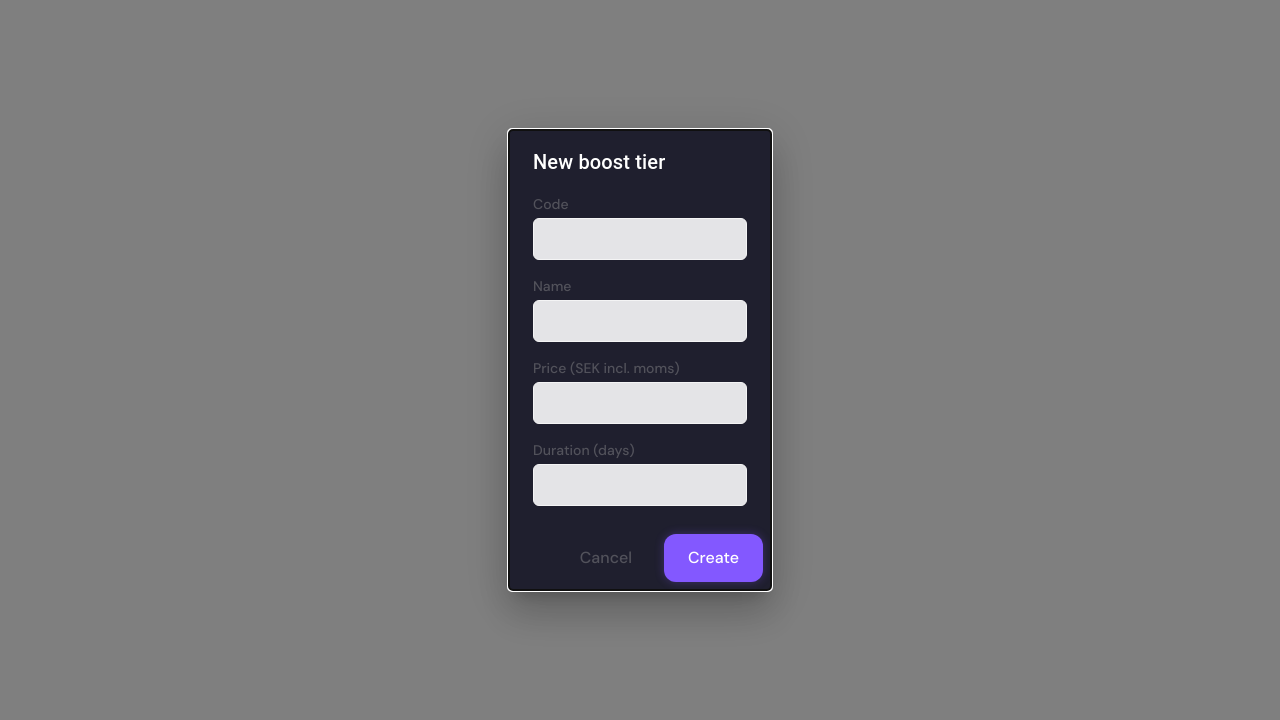
BoostTierFormDialog › shows the backend message when saving fails
The width and height of the screenshot is (1280, 720).
Type "boost" into the field labelled "Code" at (640, 239), box x1=533 y1=218 x2=747 y2=260
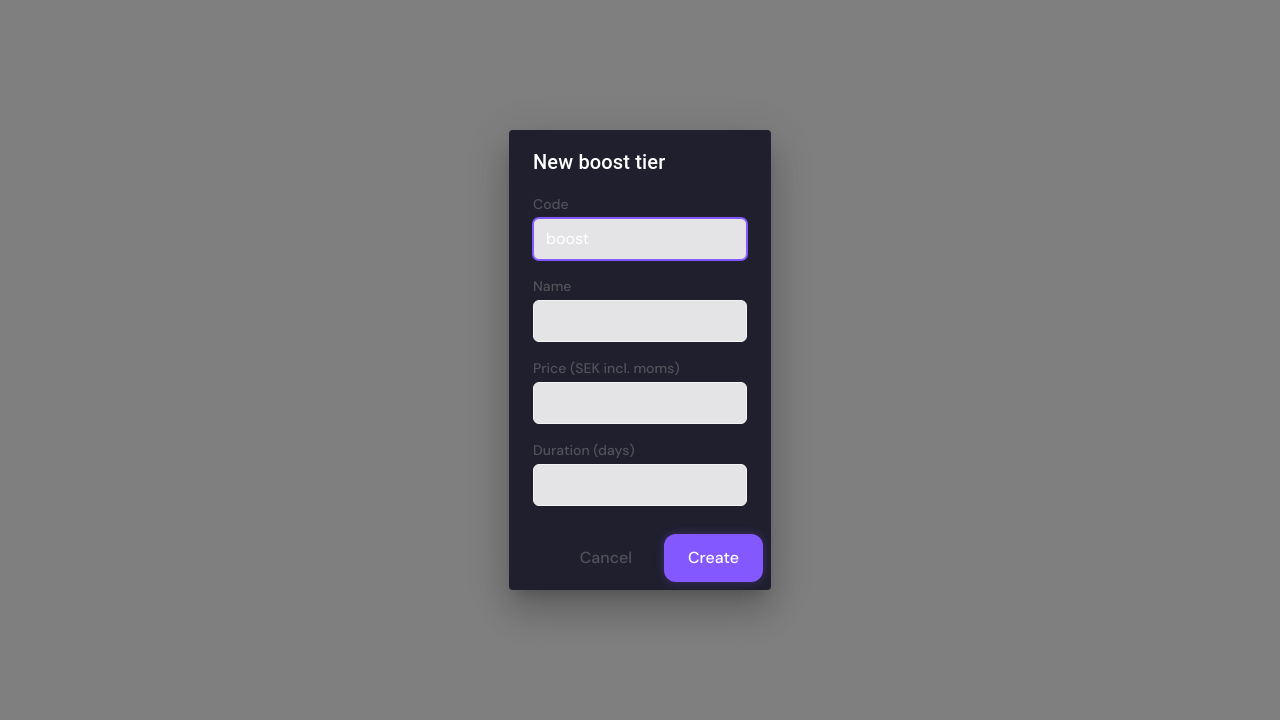
Type "Boost" into the field labelled "Name" at (640, 321), box x1=533 y1=300 x2=747 y2=342
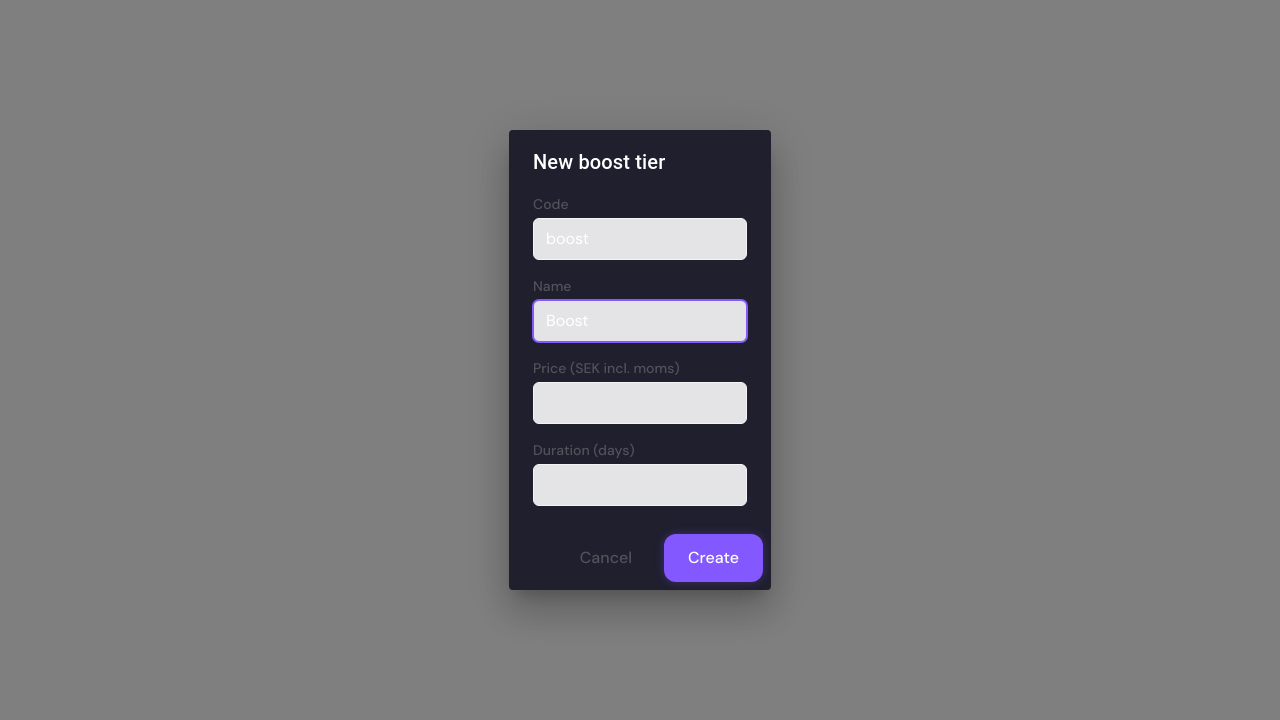
Type "49" into the field labelled "Price (SEK incl. moms)" at (640, 403), box x1=533 y1=382 x2=747 y2=424
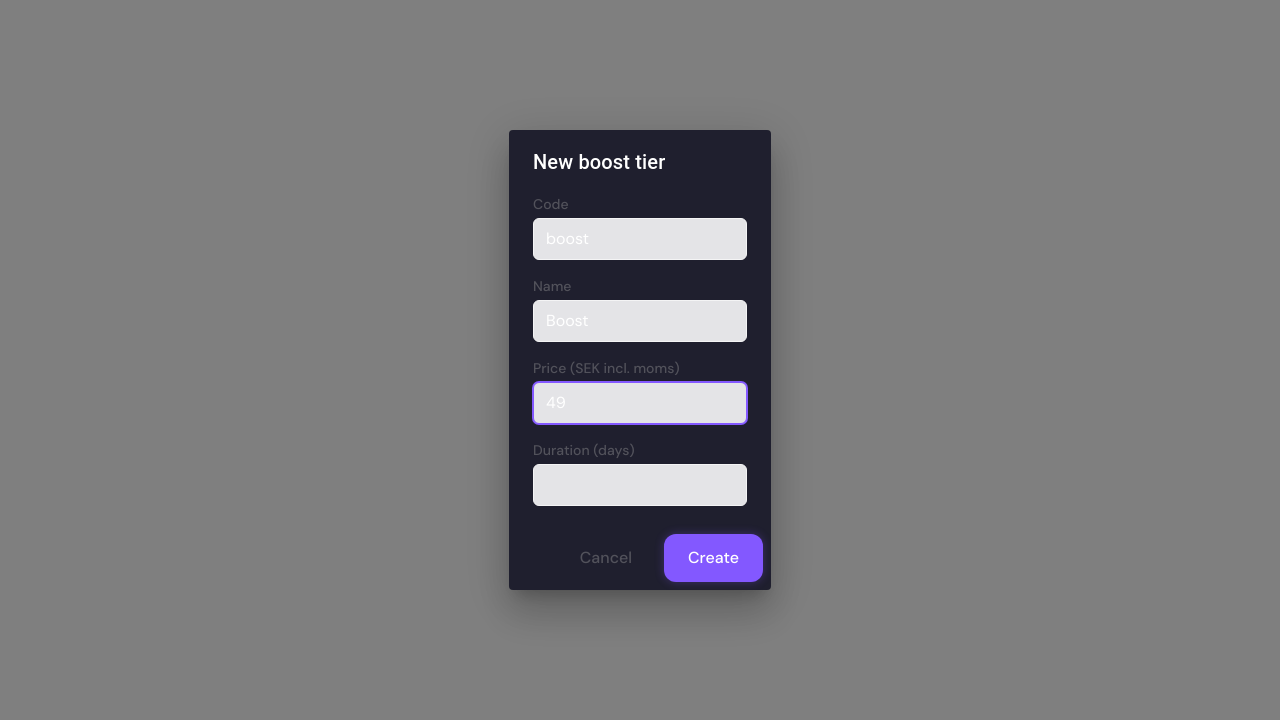
Type "7" into the field labelled "Duration (days)" at (640, 485), box x1=533 y1=464 x2=747 y2=506
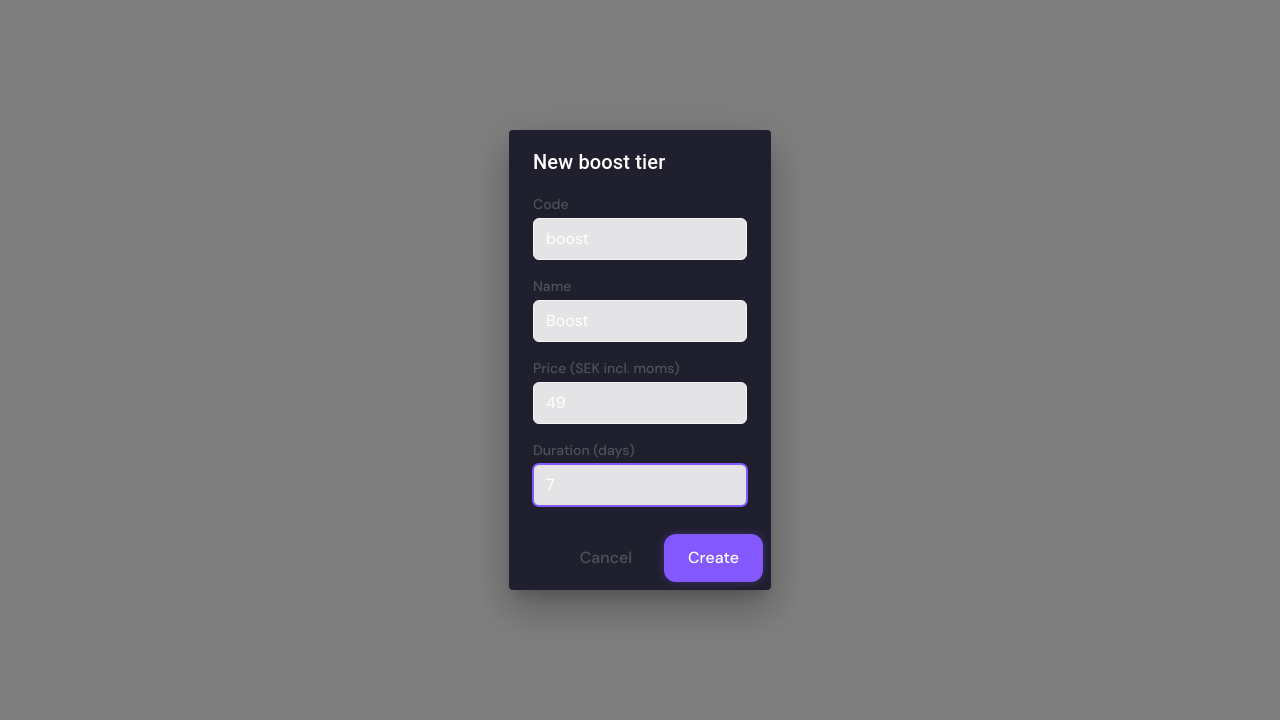
Click the button "Create" at (714, 558), box x1=664 y1=534 x2=763 y2=582
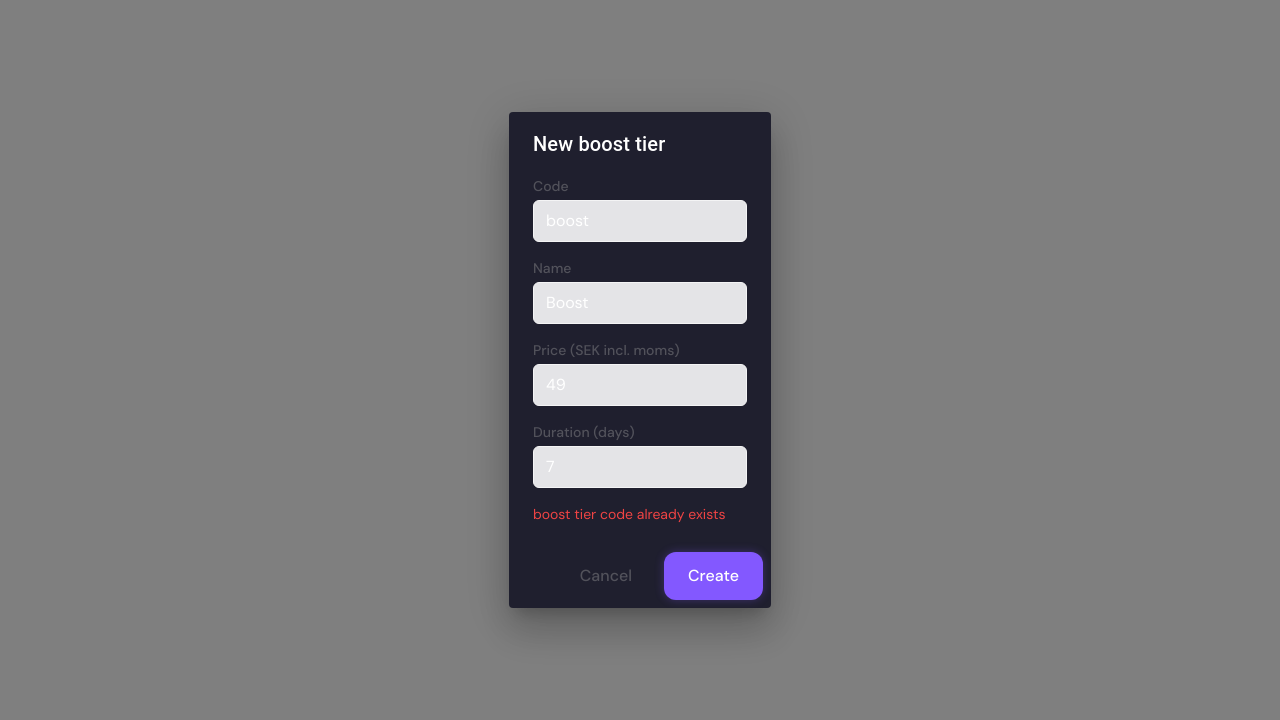
Result: the message reads "boost tier code already exists" at x1=533 y1=505 x2=726 y2=523
